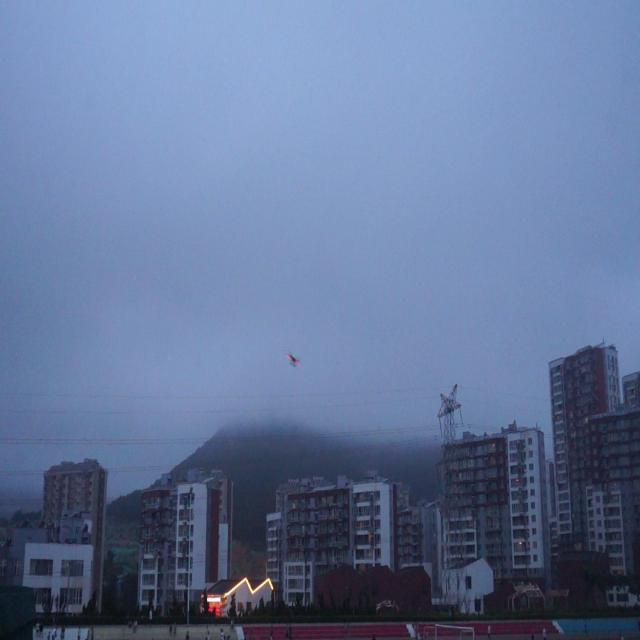UAV: (286, 354, 300, 367)
